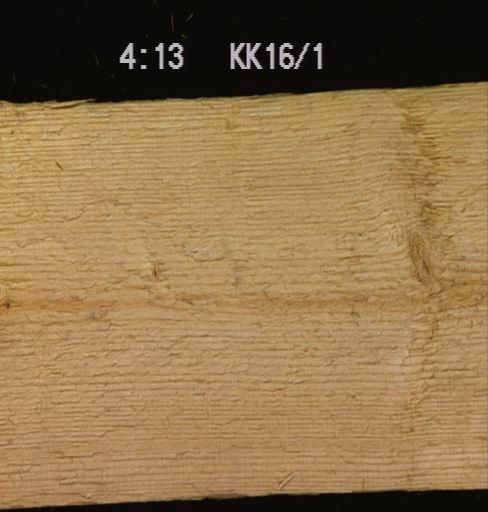small_knot: (149, 262, 159, 279), (3, 300, 11, 309)
split: (0, 97, 183, 110)
